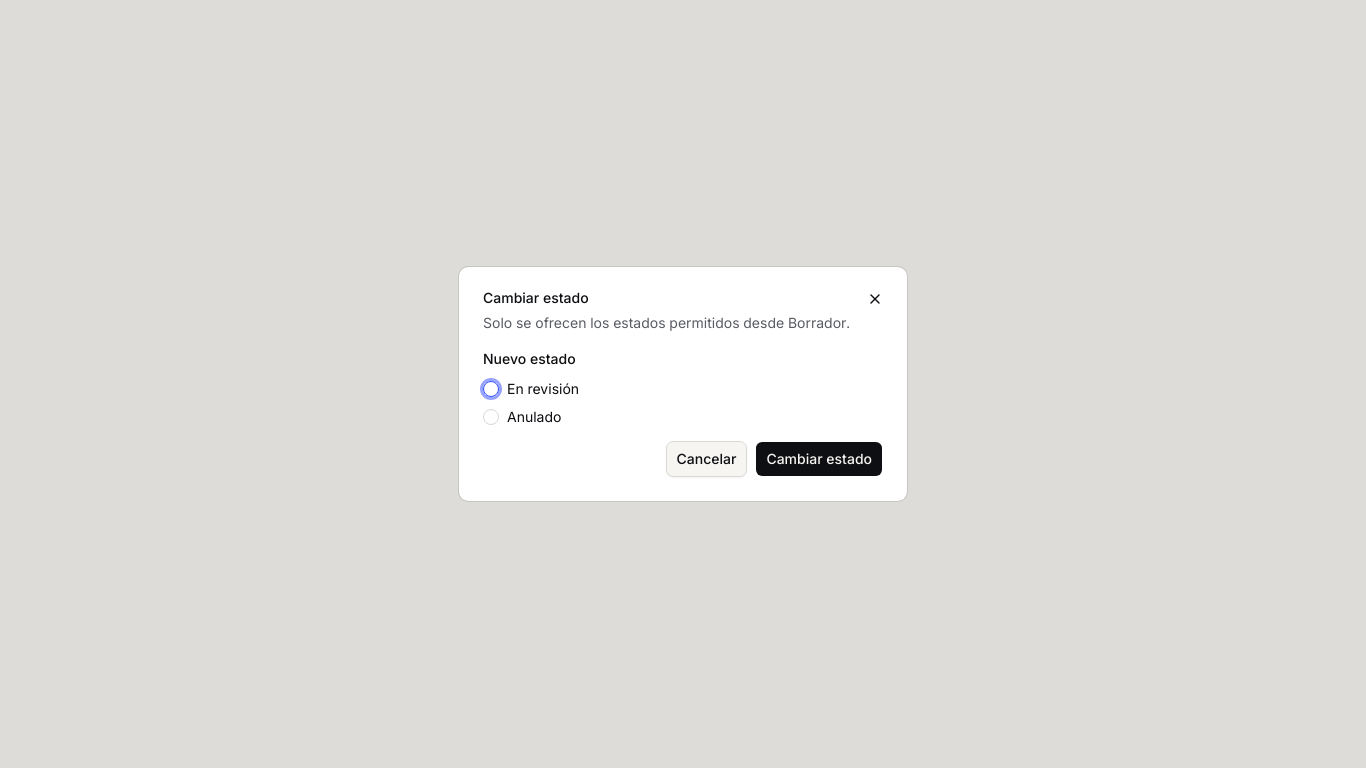
Scenario: DocumentStatusDialog › shows the server's invalid-transition message on the status field, in Spanish too
Click the radio button named "En revisión" next to "En revisión": (491, 389) [483,381,499,397]
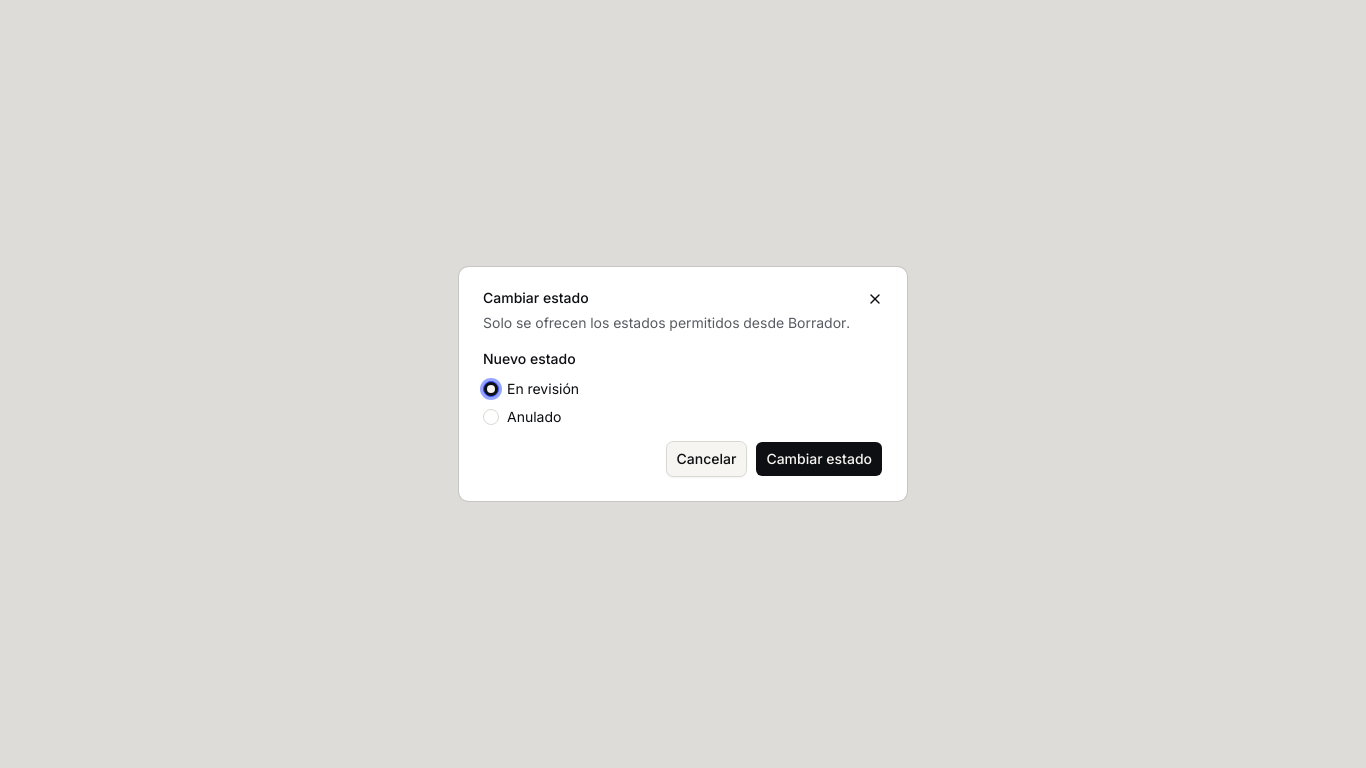
Click the button "Cambiar estado": (819, 459) [755,441,883,477]
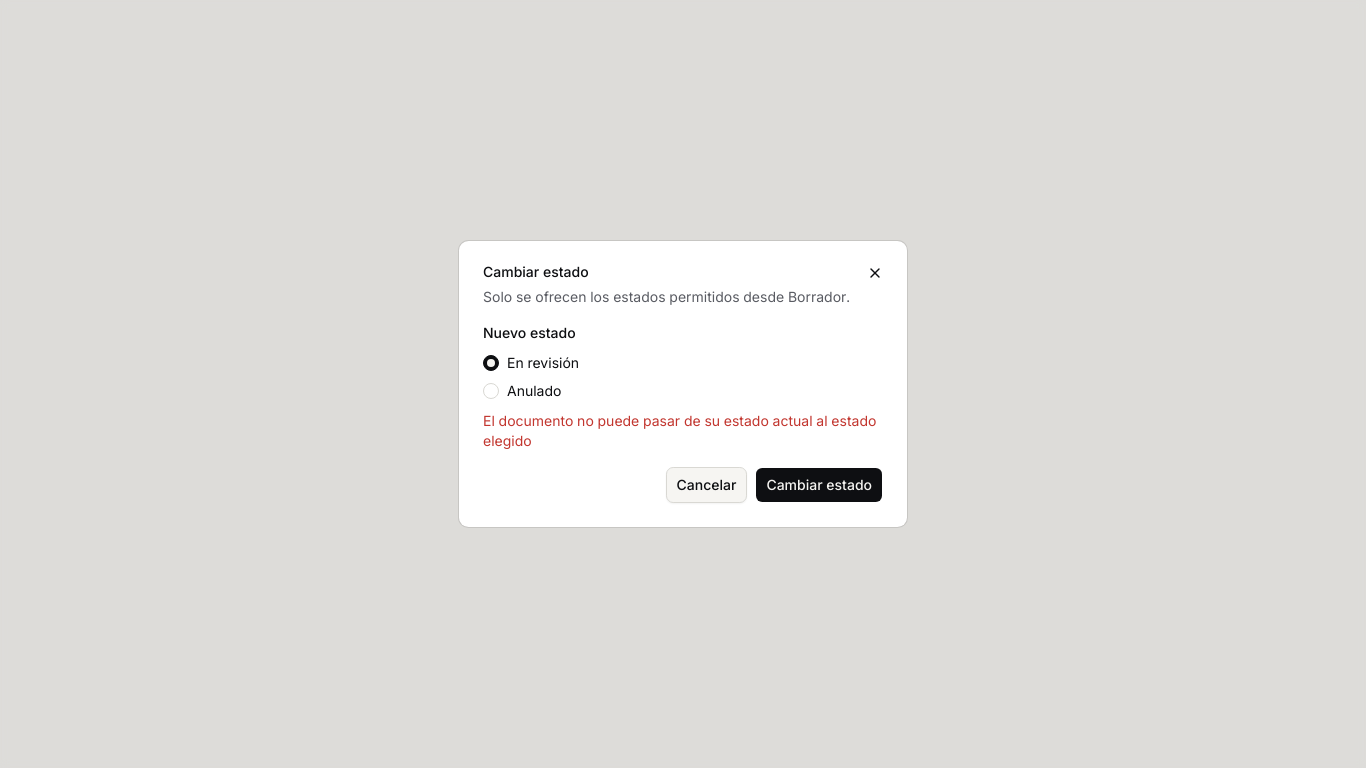
Now the text "El documento no puede pasar de su estado actual al estado elegido" is shown, box [483,411,883,451]
